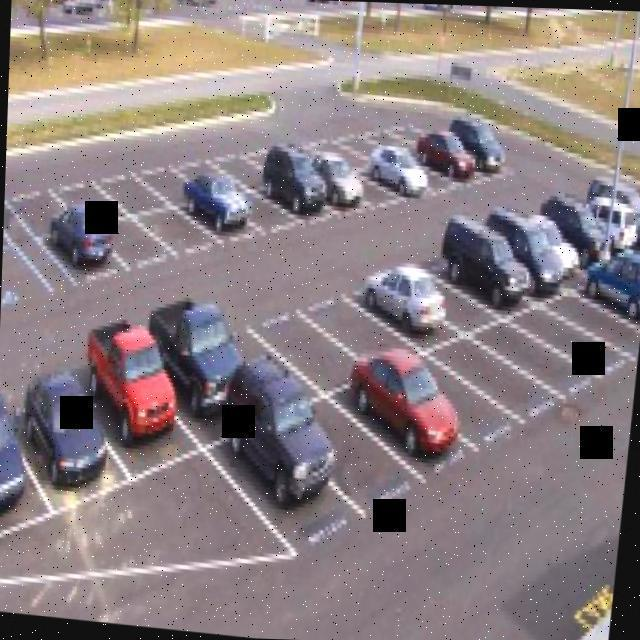car: (218, 389, 356, 553), (14, 347, 124, 500), (344, 348, 467, 482), (82, 327, 195, 468), (149, 288, 260, 429), (358, 250, 456, 346), (434, 215, 535, 306), (0, 385, 54, 541), (486, 202, 572, 292), (50, 204, 121, 284), (578, 256, 640, 345), (524, 196, 598, 268), (190, 182, 258, 250), (558, 188, 620, 260), (418, 122, 481, 190), (581, 183, 640, 251), (270, 167, 332, 226), (369, 146, 430, 205), (316, 170, 374, 232), (456, 122, 508, 176), (605, 181, 640, 243)
free: (290, 378, 414, 518), (428, 307, 559, 434), (401, 334, 512, 475), (479, 296, 609, 406), (210, 296, 320, 413), (515, 292, 630, 392), (254, 283, 358, 387), (316, 272, 410, 368), (545, 278, 640, 371), (406, 241, 493, 327), (84, 143, 168, 221), (52, 156, 120, 228), (144, 202, 222, 260), (5, 176, 74, 240), (132, 152, 201, 216), (162, 143, 237, 200), (194, 140, 268, 197), (233, 180, 296, 242), (396, 136, 456, 192), (104, 215, 162, 270), (356, 106, 414, 160), (0, 243, 41, 318), (304, 127, 364, 178), (232, 136, 296, 183), (355, 161, 405, 215), (384, 106, 438, 156), (336, 122, 388, 168)
